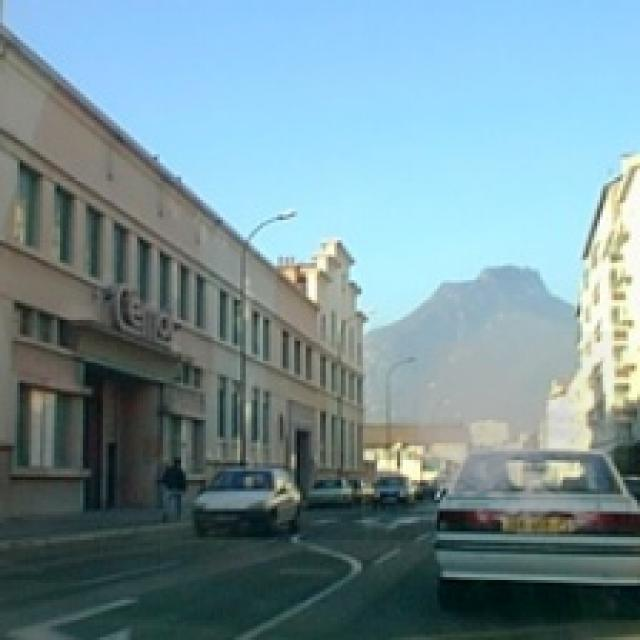smoke: (380, 332, 629, 537)
